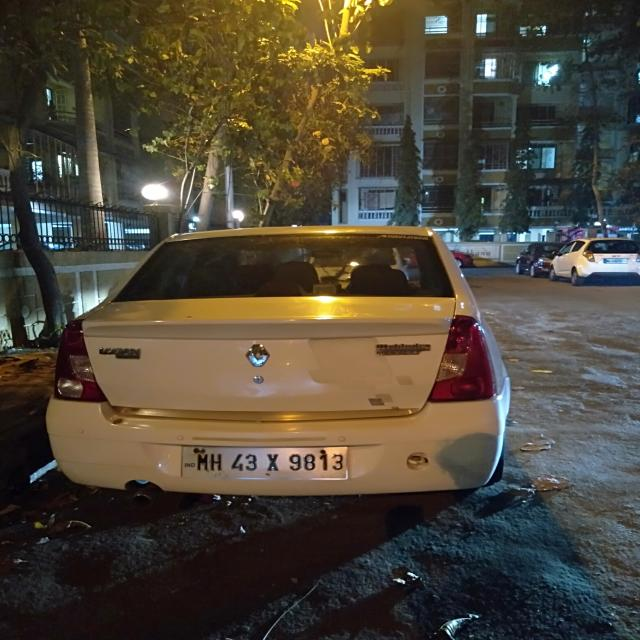Number-Plate: (182, 447, 348, 481)
